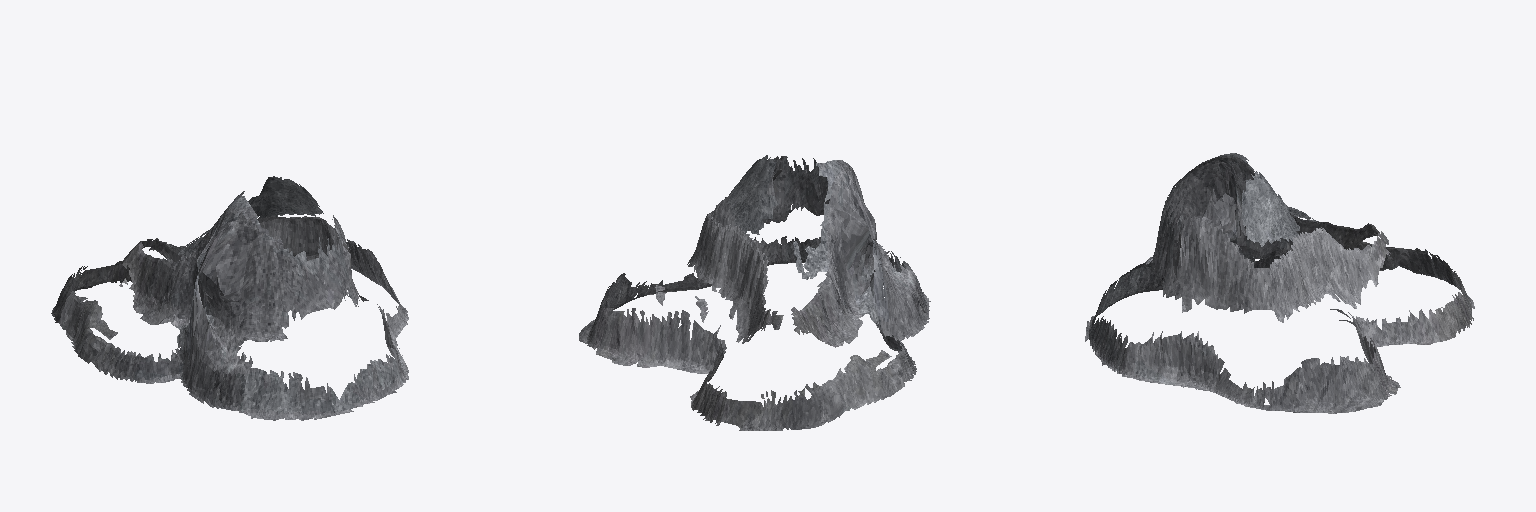
3 renders of one model, left to right at view 1: azimuth 30°, elevation 25°; view 2: azimuth 150°, elevation 25°; view 3: azimuth 270°, elevation 25°, orthographic.
Visible parts, largest first — view 1: Object_5.004; view 2: Object_5.004; view 3: Object_5.004.
Boxes of the visible parts, <box> form: Object_5.004: <box>51,176,408,420</box>; Object_5.004: <box>579,155,930,430</box>; Object_5.004: <box>1085,153,1474,413</box>.
Bounding box in the file's own units: 618 × 342 × 687.
1 materials, 1 textured.